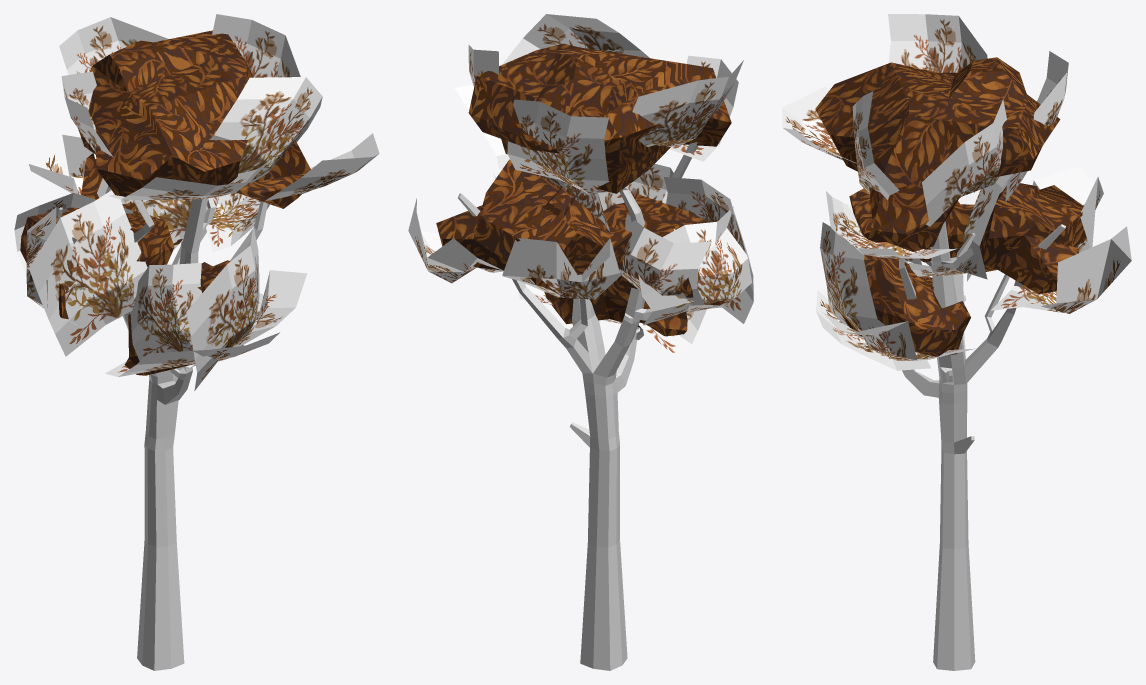
Rendered from D_Tree_tall.fbx.
3 renders of one model, left to right at view 1: azimuth 30°, elevation 25°; view 2: azimuth 150°, elevation 25°; view 3: azimuth 270°, elevation 25°, orthographic.
Visible parts, largest first — view 1: Tall_tree_leaves, Tall_tree_trunk; view 2: Tall_tree_trunk, Tall_tree_leaves; view 3: Tall_tree_trunk, Tall_tree_leaves.
Part boxes in pixels (x1=…): Tall_tree_leaves: x1=14, y1=14, x2=379, y2=390; Tall_tree_trunk: x1=20, y1=30, x2=310, y2=670; Tall_tree_trunk: x1=436, y1=43, x2=731, y2=670; Tall_tree_leaves: x1=408, y1=14, x2=753, y2=361; Tall_tree_trunk: x1=815, y1=57, x2=1086, y2=670; Tall_tree_leaves: x1=782, y1=14, x2=1131, y2=370.
Bounding box in the file's own units: 812 × 1478 × 778.
